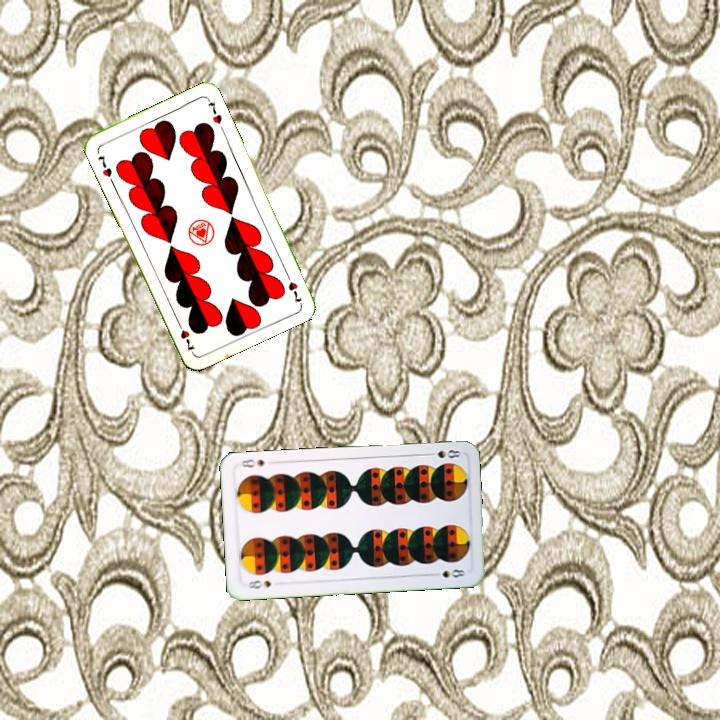H7: (281, 268, 304, 306), (94, 151, 115, 180)
S8: (422, 446, 463, 461), (241, 576, 274, 592)
